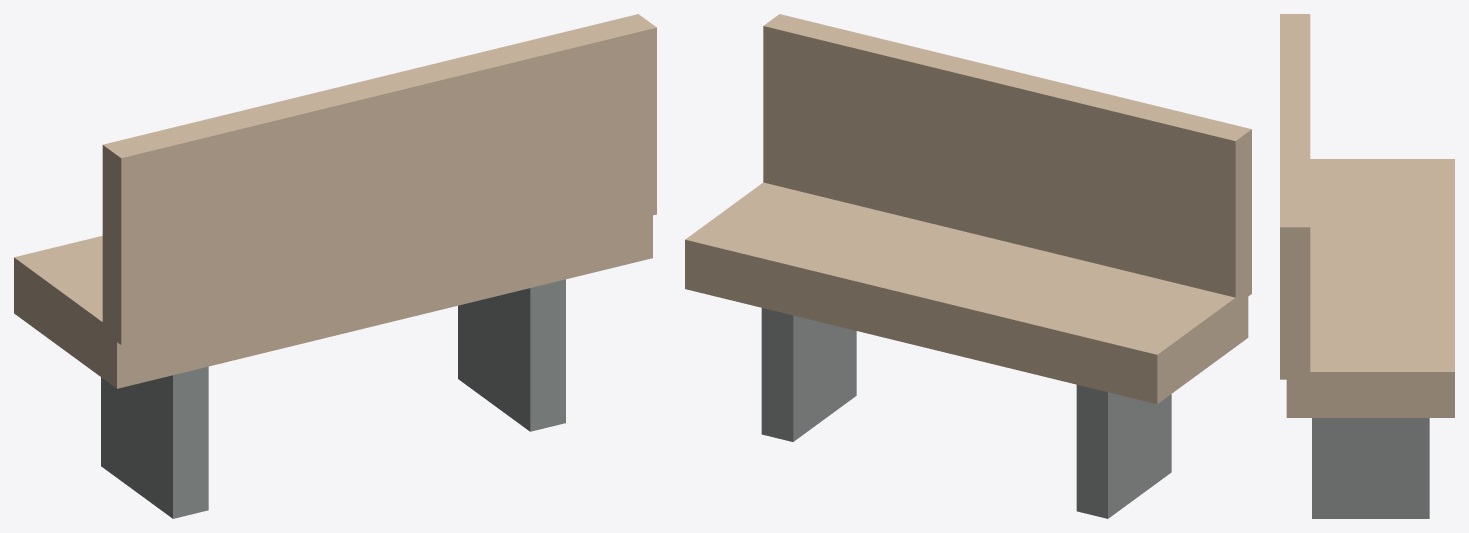
Rendered from bench.glb.
The picture shows the model from 3 angles, left to right: view 1: azimuth 30°, elevation 25°; view 2: azimuth 150°, elevation 25°; view 3: azimuth 270°, elevation 25°; orthographic projection. The views are drawn at different scales.
Parts seen in each view (by area): view 1: bench_back, bench_seat, bench_leg_0, bench_leg_1; view 2: bench_back, bench_seat, bench_leg_0, bench_leg_1; view 3: bench_seat, bench_leg_1, bench_back.
Part boxes in pixels (<box>): bench_back: <box>102,14,656,344</box>; bench_seat: <box>14,215,652,388</box>; bench_leg_0: <box>101,366,208,518</box>; bench_leg_1: <box>458,279,565,431</box>; bench_back: <box>763,14,1251,304</box>; bench_seat: <box>685,182,1248,404</box>; bench_leg_0: <box>1076,385,1171,518</box>; bench_leg_1: <box>761,308,856,441</box>; bench_seat: <box>1286,159,1454,417</box>; bench_leg_1: <box>1312,418,1429,518</box>; bench_back: <box>1280,14,1310,379</box>.
Size of the model in its own units: 3 by 2.1 by 1.04.
